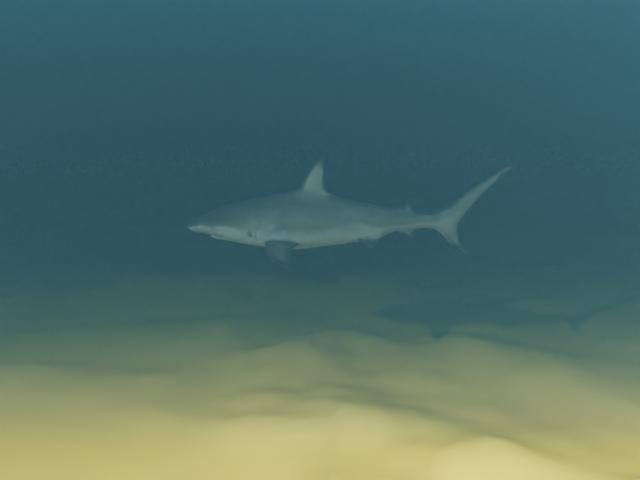Carribean Shark.001: (186, 159, 513, 268)
